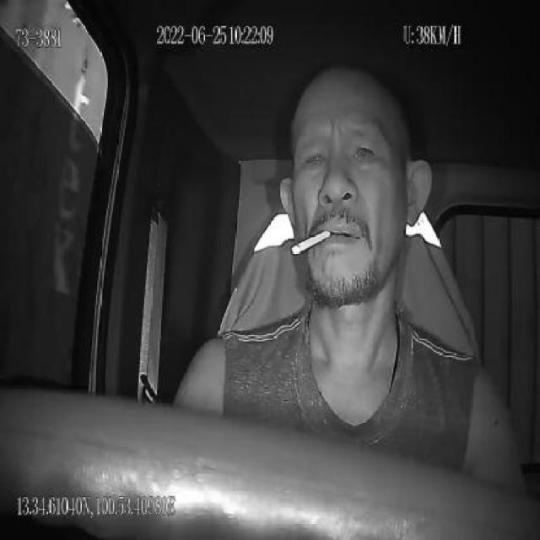smoking: (291, 227, 331, 258)
